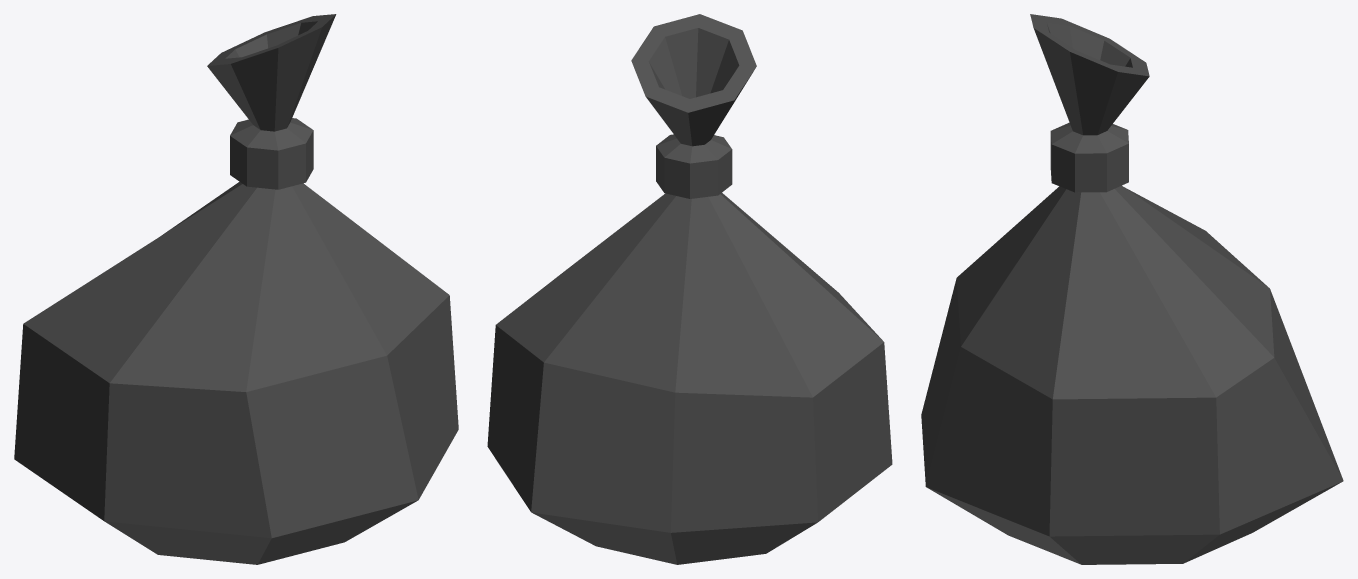
Rendered from Props_033.fbx.
3 renders of one model, left to right at view 1: azimuth 30°, elevation 25°; view 2: azimuth 150°, elevation 25°; view 3: azimuth 270°, elevation 25°, orthographic. The views are drawn at different scales.
Parts seen in each view (by area): view 1: Props_033; view 2: Props_033; view 3: Props_033.
Boxes of the visible parts, x1,y1,x2,y2 form: Props_033: (14, 14, 458, 564); Props_033: (487, 14, 892, 564); Props_033: (921, 14, 1343, 564).
Bounding box in the file's own units: 0.6314 × 0.8425 × 0.6412.
